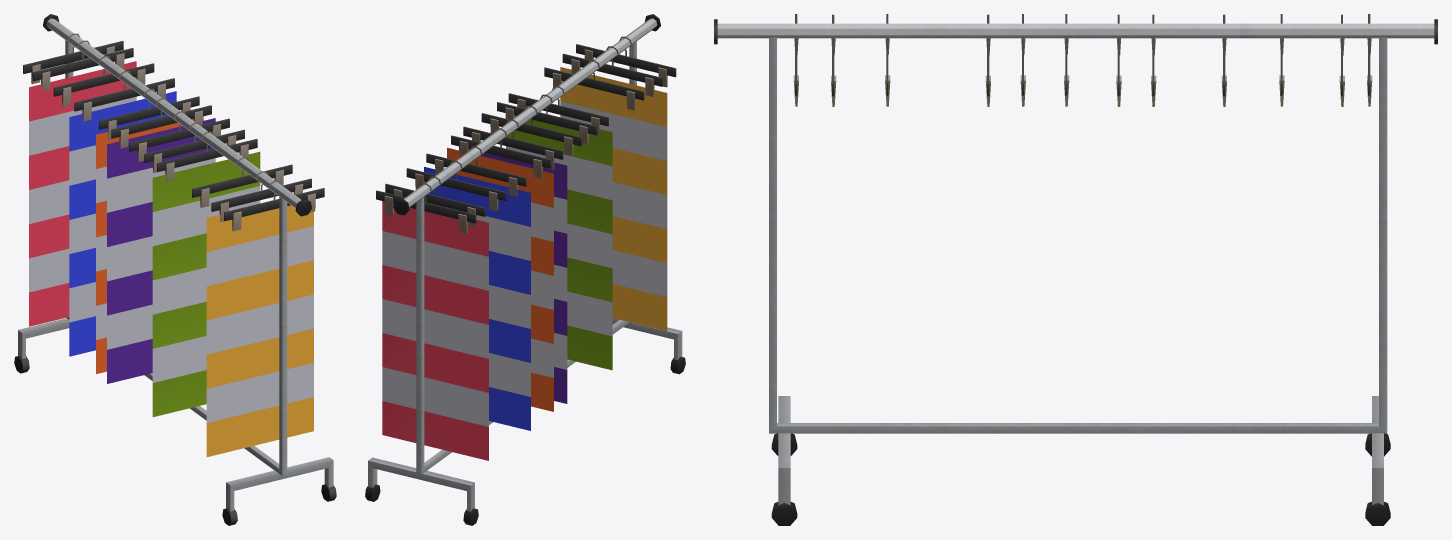
The model's file is Cloth_Rack_07.fbx.
3 renders of one model, left to right at view 1: azimuth 30°, elevation 25°; view 2: azimuth 150°, elevation 25°; view 3: azimuth 270°, elevation 25°, orthographic. The views are drawn at different scales.
Visible parts, largest first — view 1: Cloth_Rack_07; view 2: Cloth_Rack_07; view 3: Cloth_Rack_07.
Boxes of the visible parts, x1,y1,x2,y2 form: Cloth_Rack_07: (14, 14, 336, 525); Cloth_Rack_07: (365, 14, 685, 525); Cloth_Rack_07: (714, 14, 1437, 525).
Size of the model in its own units: 0.1697 by 0.4893 by 0.683.
